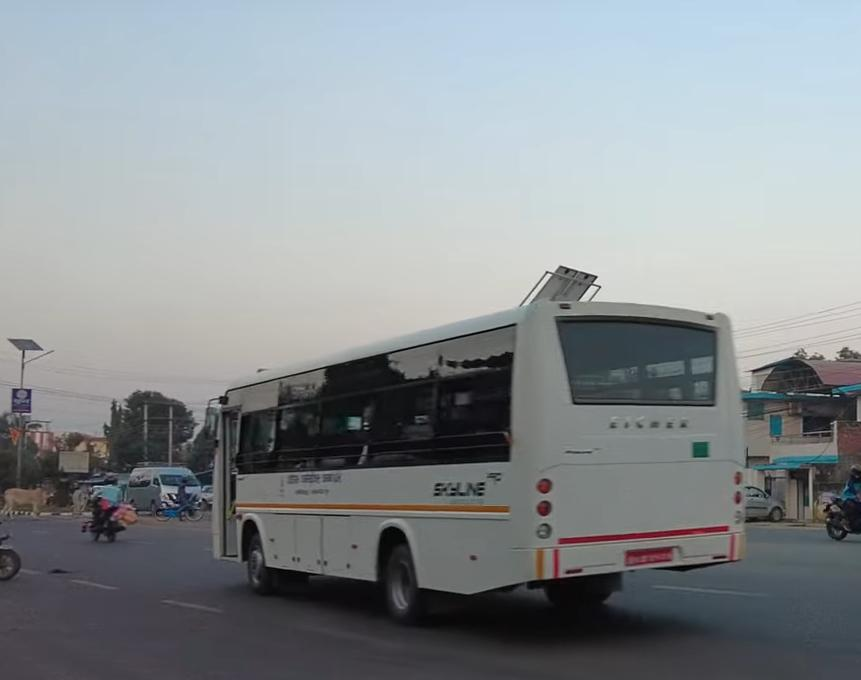bus: (205, 292, 766, 633)
